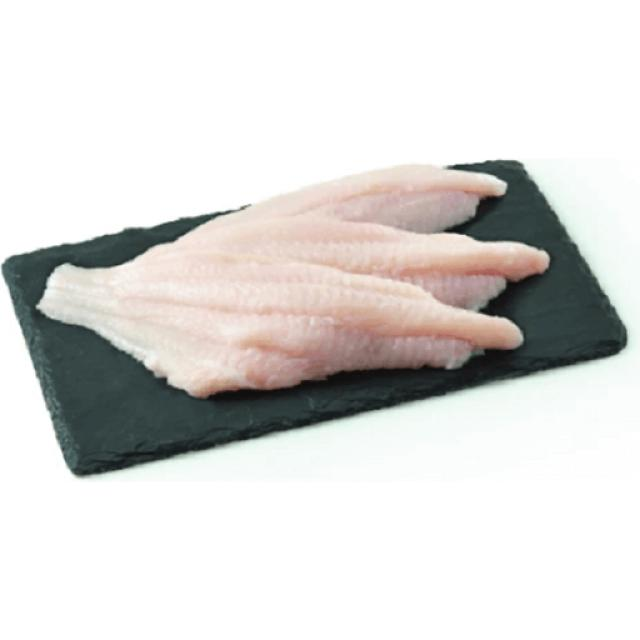Catfish: (41, 245, 526, 397), (59, 224, 560, 320), (197, 169, 520, 233)
